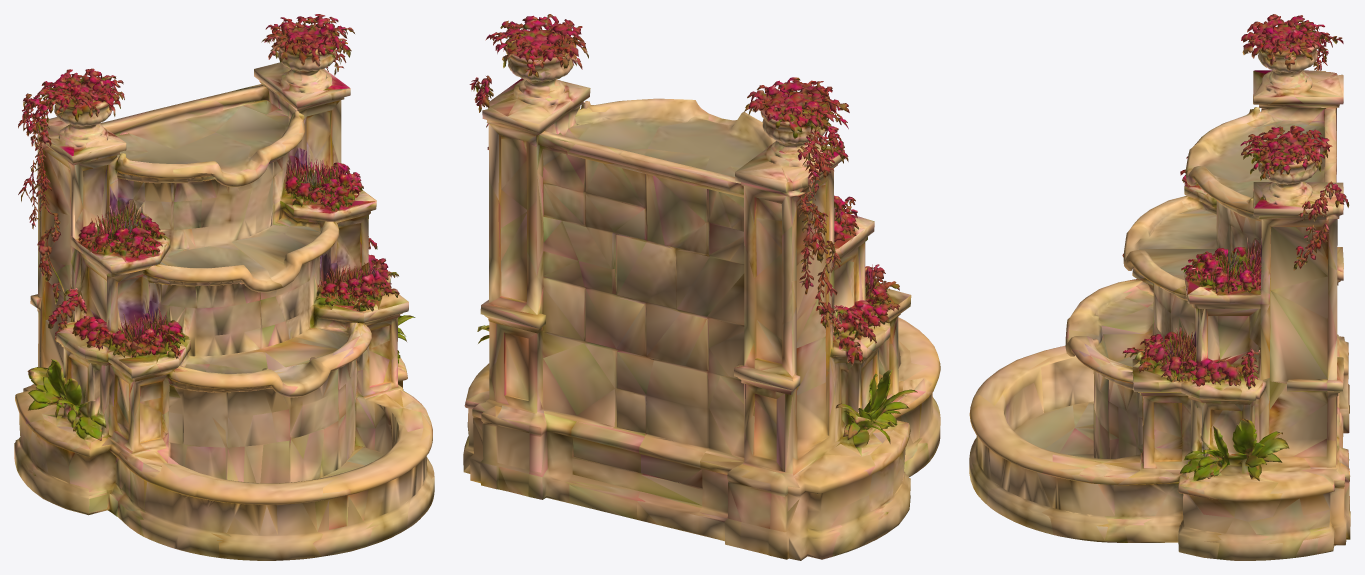
The model's file is cascada.glb.
3 renders of one model, left to right at view 1: azimuth 30°, elevation 25°; view 2: azimuth 150°, elevation 25°; view 3: azimuth 270°, elevation 25°, orthographic. The views are drawn at different scales.
Parts seen in each view (by area): view 1: Mesh_0; view 2: Mesh_0; view 3: Mesh_0.
Boxes of the visible parts, left/top/right/bottom form: Mesh_0: left=14, top=14, right=434, bottom=560; Mesh_0: left=463, top=14, right=940, bottom=560; Mesh_0: left=969, top=14, right=1350, bottom=560.
Bounding box in the file's own units: 1.86 × 1.9 × 1.66.
Materials: 1 (1 with a texture image).
